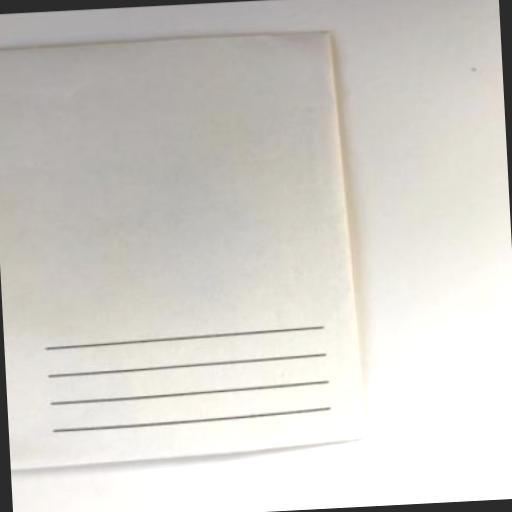paper: (0, 26, 363, 471)
